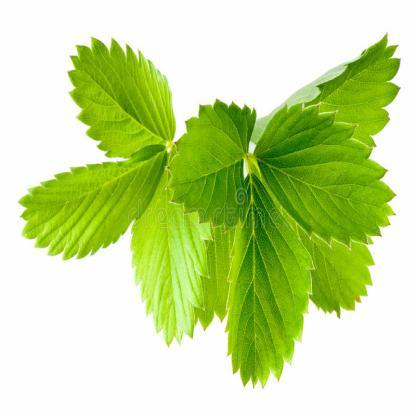Strawberry leaf: (250, 102, 395, 255), (221, 182, 316, 391), (12, 146, 170, 266), (64, 30, 183, 160), (130, 160, 210, 346), (164, 88, 258, 228)
